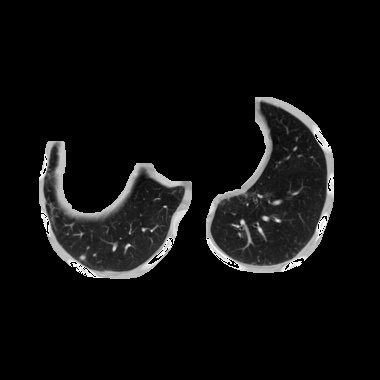PN: (79, 254, 85, 260)
